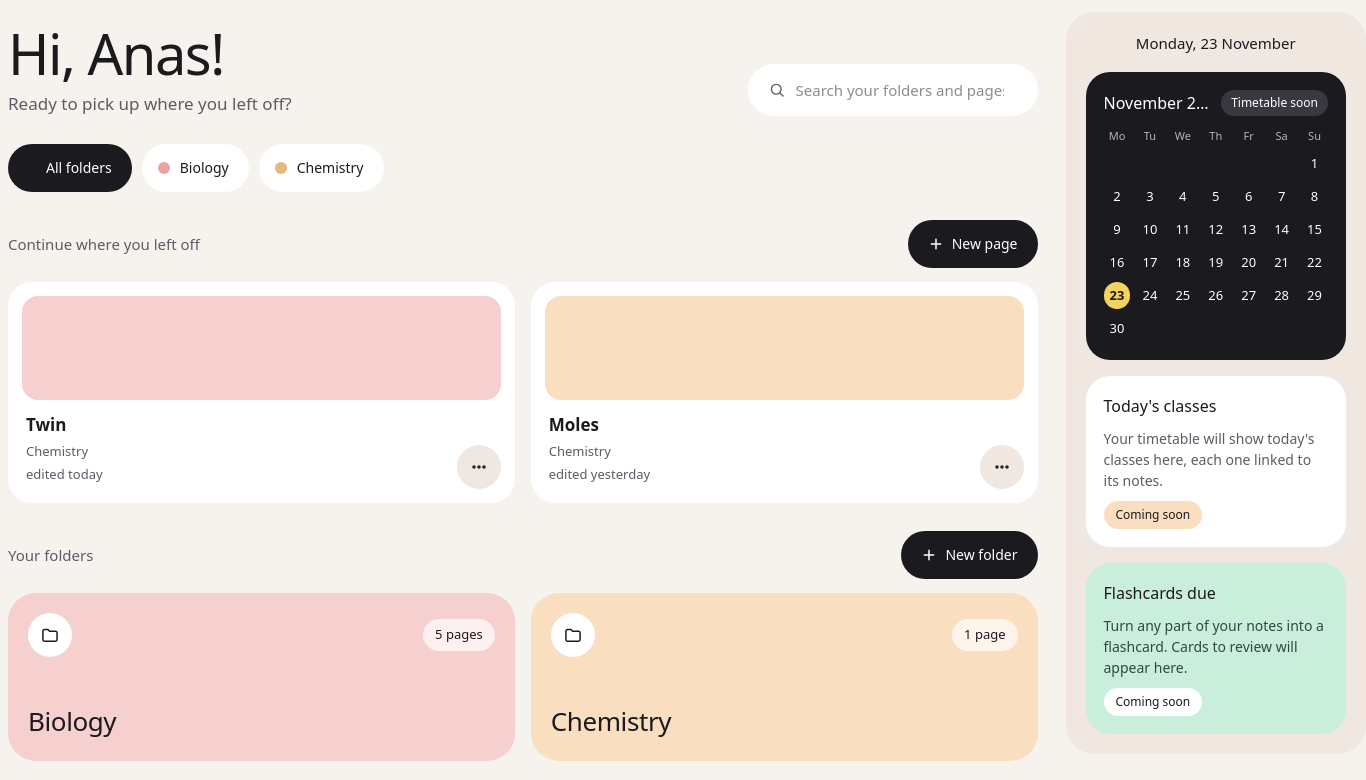
Scenario: Dashboard › matches recent pages to the chip by folder id, not name
Click the button "Chemistry": click(321, 168) [259, 144, 384, 192]
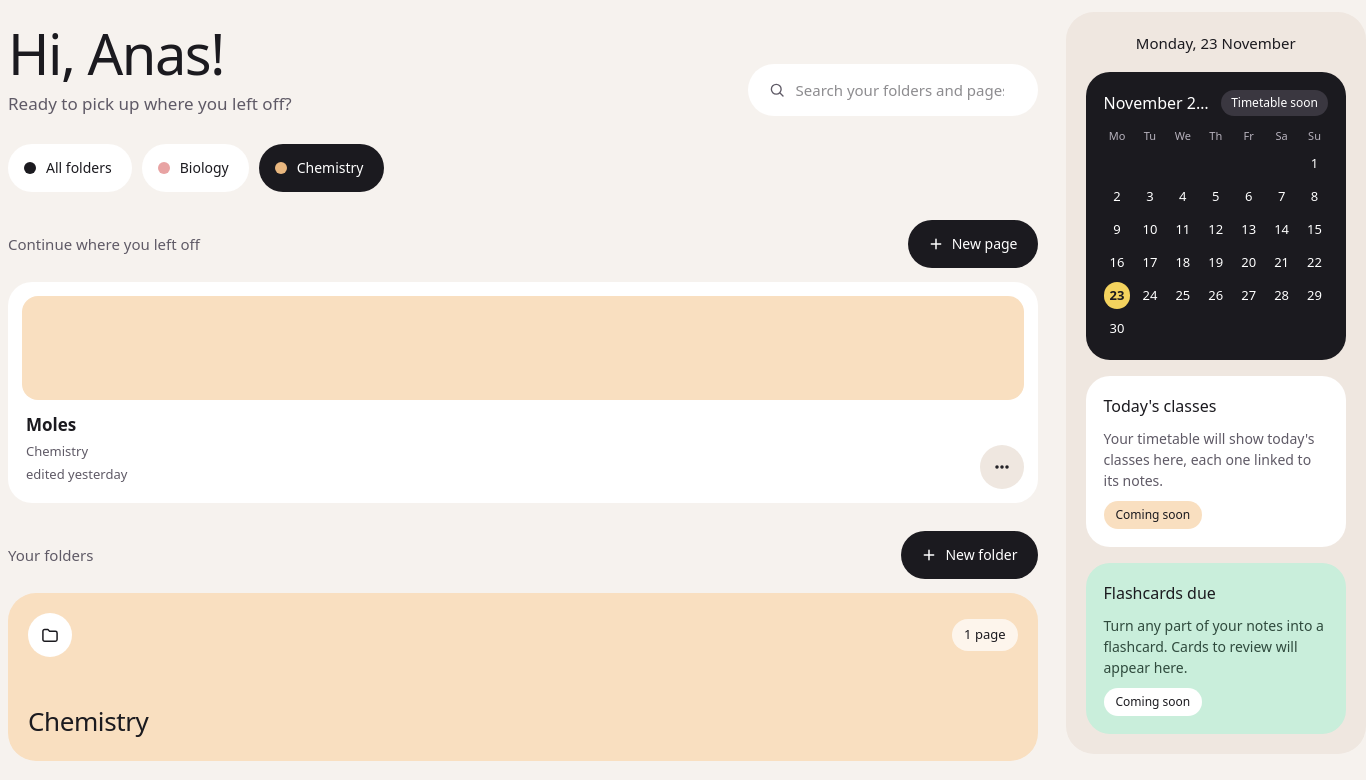
Expected: the link "Moles Chemistry edited yesterday" is shown, [22, 296, 1024, 489]
Now the link "Twin" is gone
